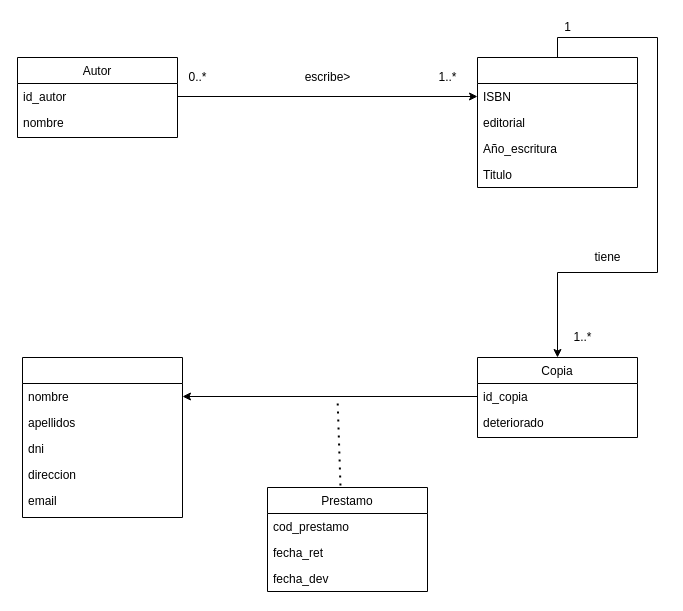
Some shapes in this 683 by 611 pixel diagram are drawn without their labels. The shapes that lost their labels are listed below. From the top down, each one's box as (x1, y1, x2, y2) in pixels, then its label:
(476, 56, 638, 188): Libro
(22, 356, 182, 518): Persona
